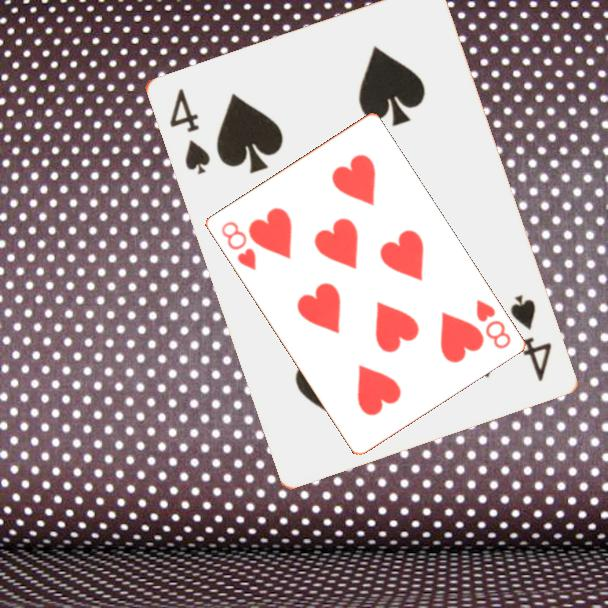h08: (472, 295, 514, 352), (217, 217, 259, 273)
s04: (505, 290, 554, 384), (165, 85, 213, 177)
